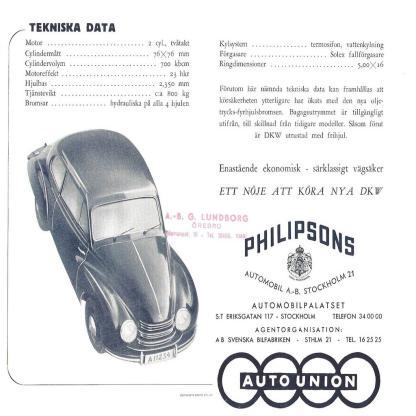Car: (19, 125, 213, 365)
